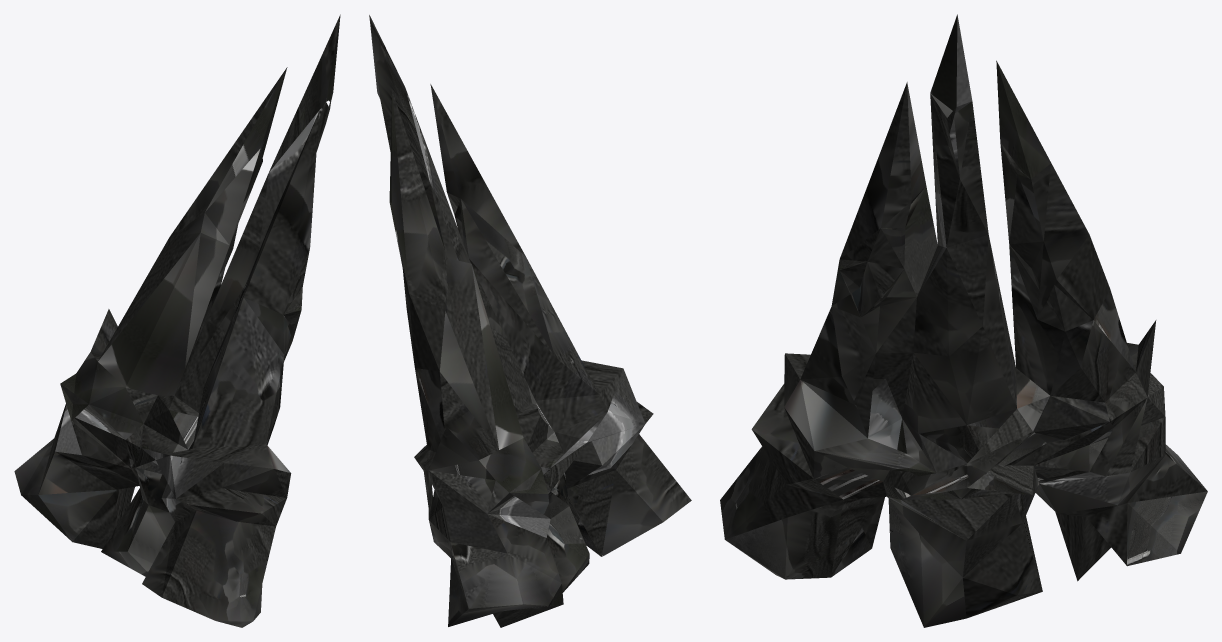
File: crystal_shard_dagger.obj
The picture shows the model from 3 angles, left to right: view 1: azimuth 30°, elevation 25°; view 2: azimuth 150°, elevation 25°; view 3: azimuth 270°, elevation 25°; orthographic projection. The views are drawn at different scales.
Size of the model in its own units: 1.92 by 4 by 2.55.
